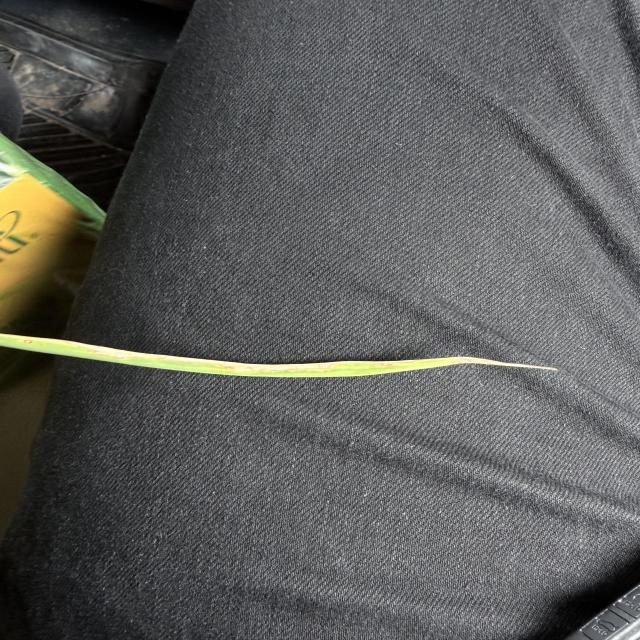Chay bia la: (4, 333, 174, 359), (170, 356, 343, 372), (375, 355, 557, 368)
